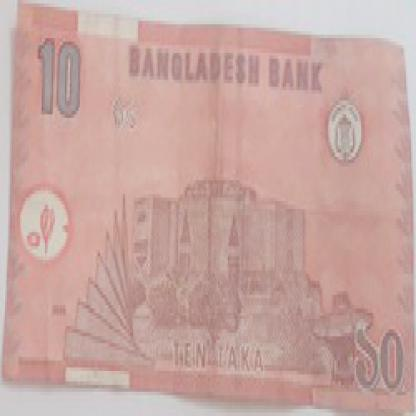Ten Taka: (344, 312, 414, 402), (35, 31, 88, 135)
